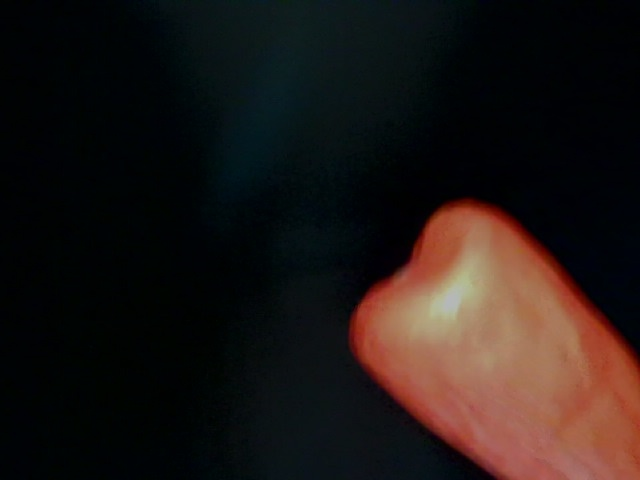CYLJ: (237, 305, 609, 480)
